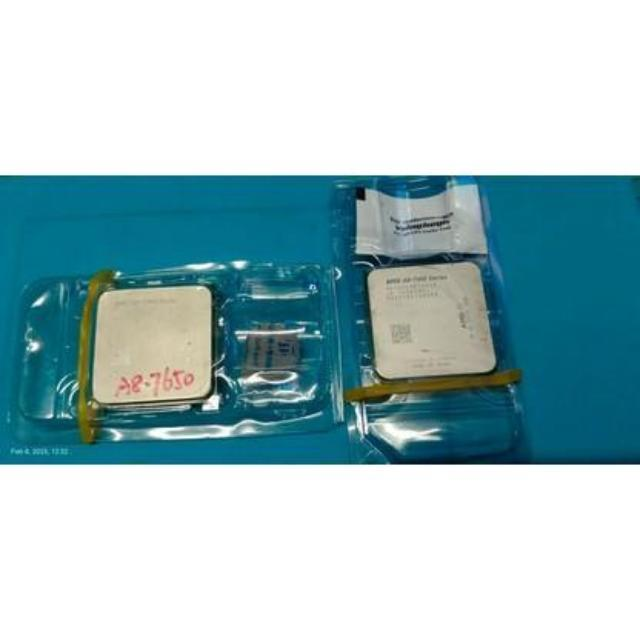CPU: (364, 258, 502, 382), (94, 284, 222, 412)
